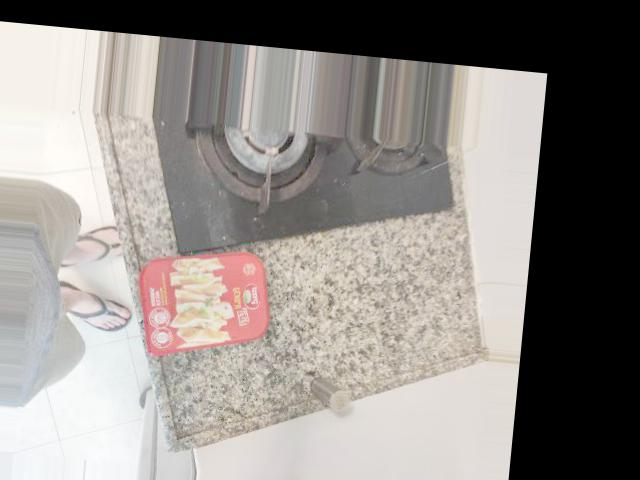cheese: (245, 232, 418, 361)
